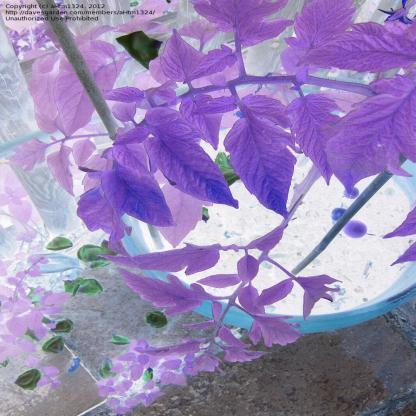Tomato leaf: (148, 122, 246, 222), (94, 152, 184, 246), (226, 108, 300, 217), (276, 90, 355, 191), (276, 22, 416, 72), (185, 42, 252, 84)
